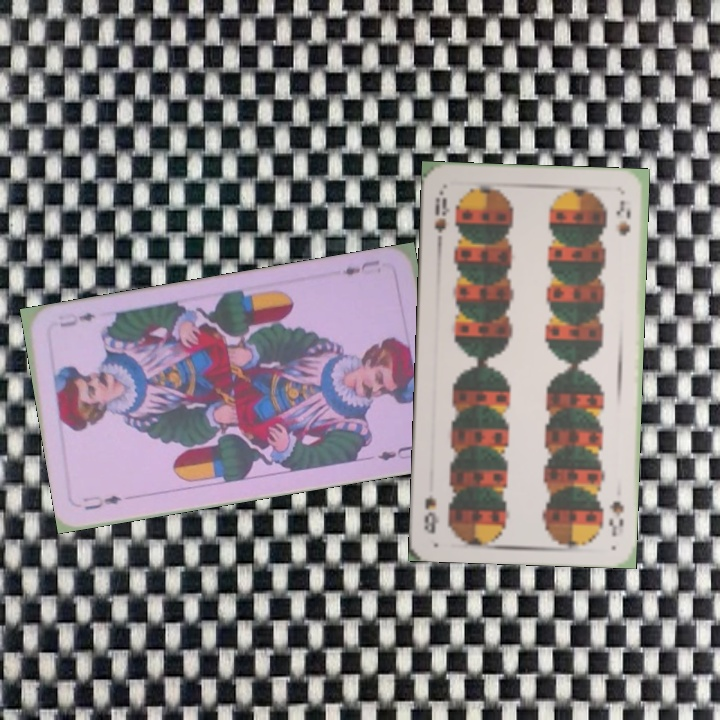EU: (79, 491, 125, 513), (338, 256, 382, 278)
S8: (430, 186, 453, 245), (605, 497, 627, 539)
